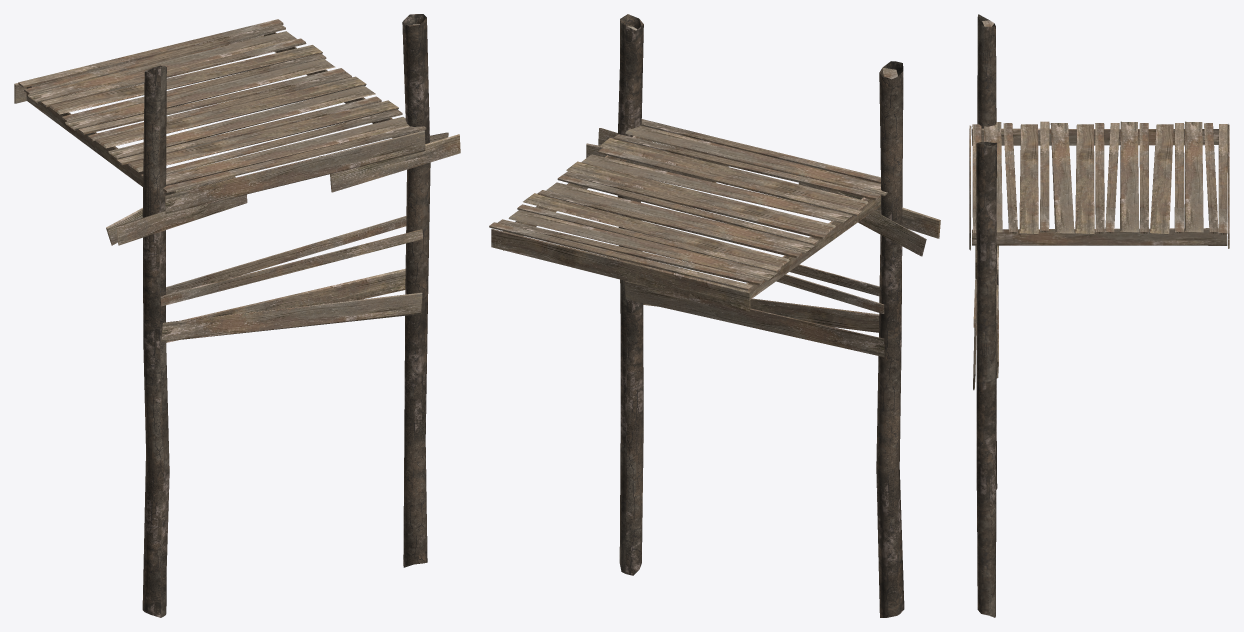
Rendered from SM_Gangway_04.fbx.
3 renders of one model, left to right at view 1: azimuth 30°, elevation 25°; view 2: azimuth 150°, elevation 25°; view 3: azimuth 270°, elevation 25°, orthographic. The views are drawn at different scales.
Parts seen in each view (by area): view 1: SM_Gangway_04_LOD0; view 2: SM_Gangway_04_LOD0; view 3: SM_Gangway_04_LOD0.
Boxes of the visible parts, x1,y1,x2,y2 form: SM_Gangway_04_LOD0: (14,14,460,617); SM_Gangway_04_LOD0: (489,14,940,617); SM_Gangway_04_LOD0: (969,14,1229,617).
Bounding box in the file's own units: 527 × 403 × 837.
